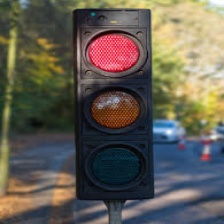semaforo: (72, 7, 154, 199)
